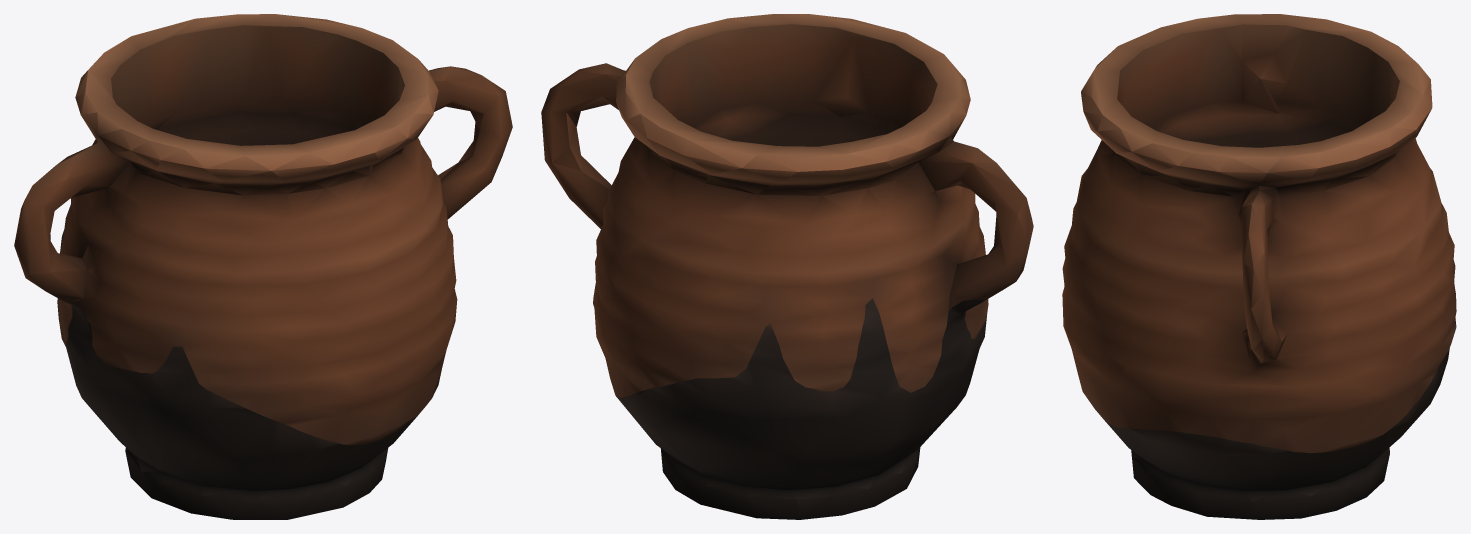
File: pot_clay.glb
The picture shows the model from 3 angles, left to right: view 1: azimuth 30°, elevation 25°; view 2: azimuth 150°, elevation 25°; view 3: azimuth 270°, elevation 25°; orthographic projection.
Parts seen in each view (by area): view 1: pot_clay_LOD0; view 2: pot_clay_LOD0; view 3: pot_clay_LOD0.
Boxes of the visible parts, box(x1,y1,x2,y2) form: pot_clay_LOD0: box(14, 14, 512, 519); pot_clay_LOD0: box(541, 14, 1033, 519); pot_clay_LOD0: box(1062, 14, 1456, 519).
Size of what is drawn, in the model's own units: 0.4742 by 0.3527 by 0.3305.
